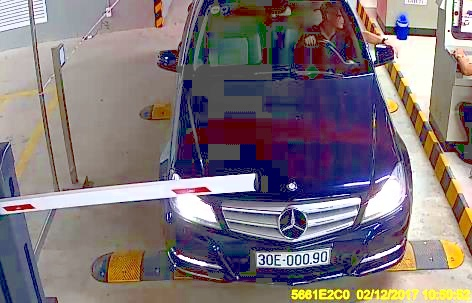plate: (251, 247, 332, 268)
